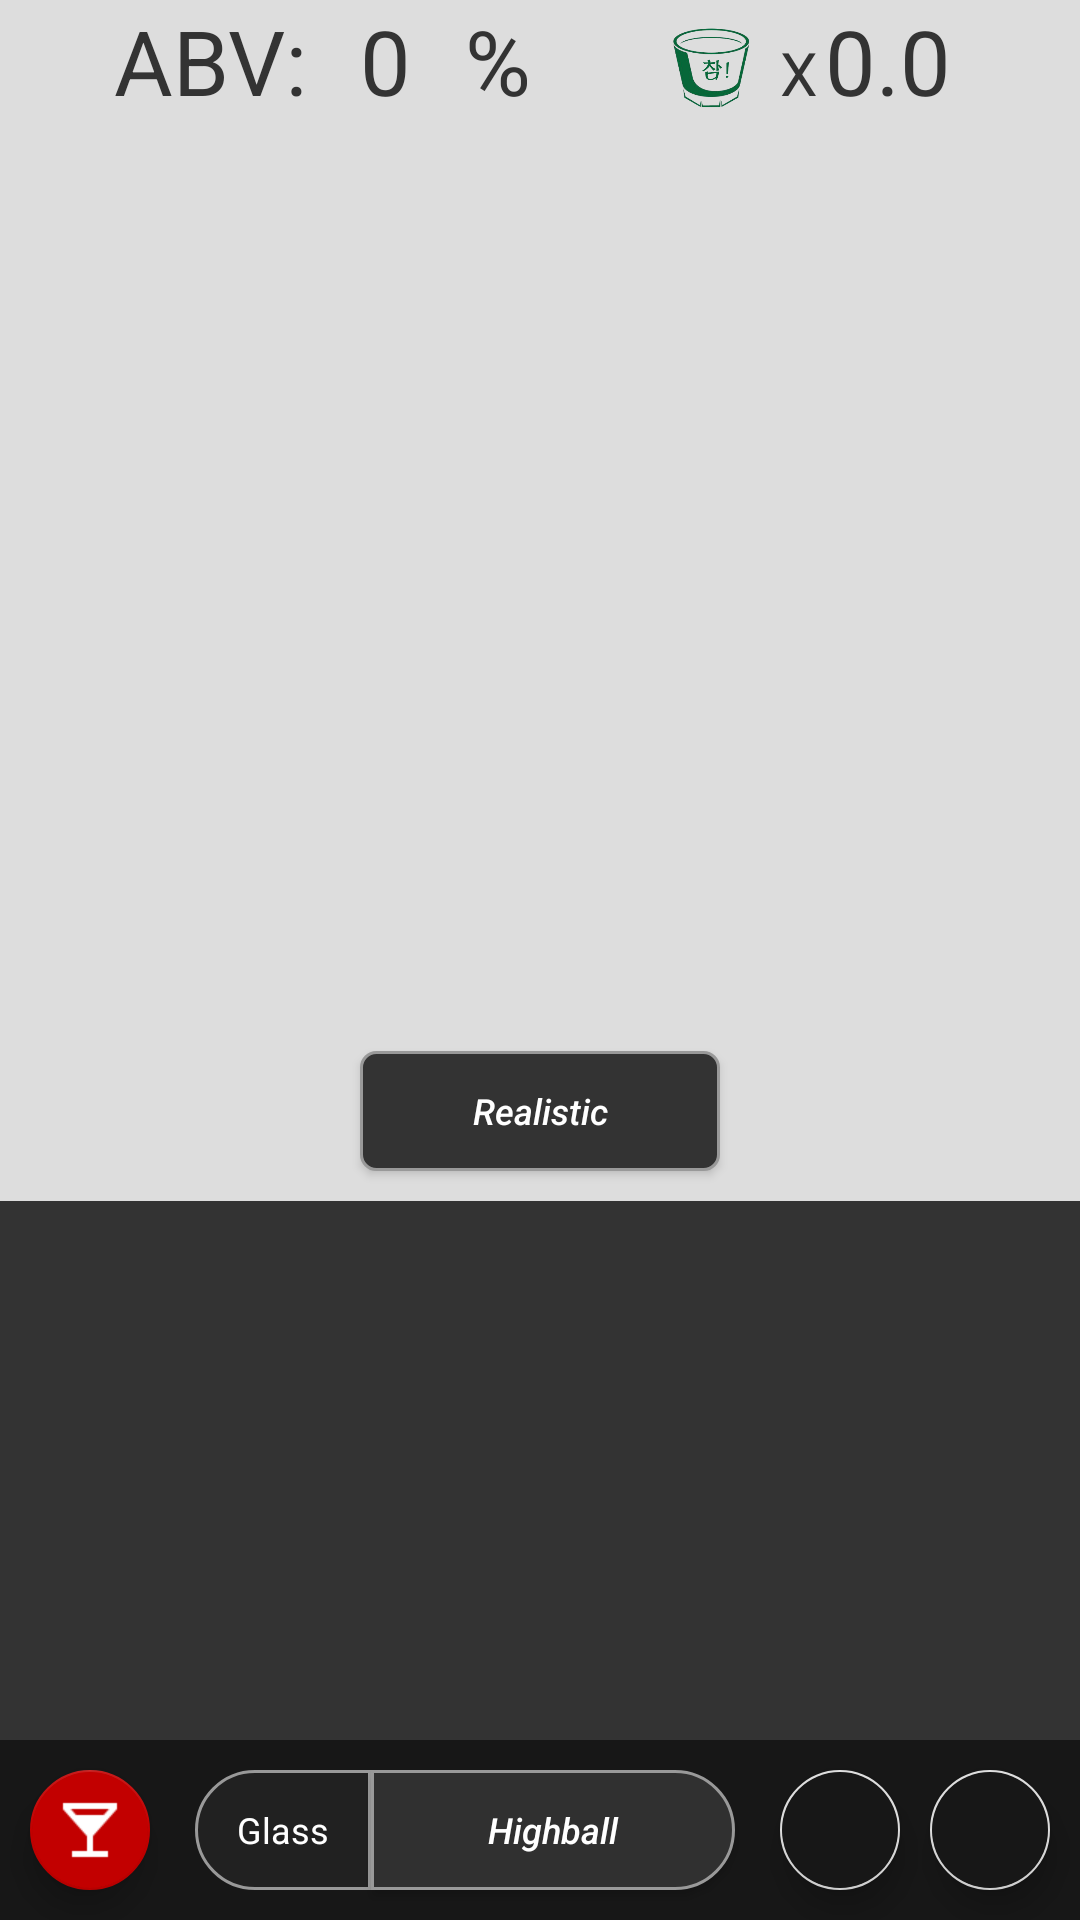

Icon bounding boxes for this 1080x1920 phone screenshot, format (x1, y1, x2, y2):
local bar: (30, 1770, 150, 1890)
